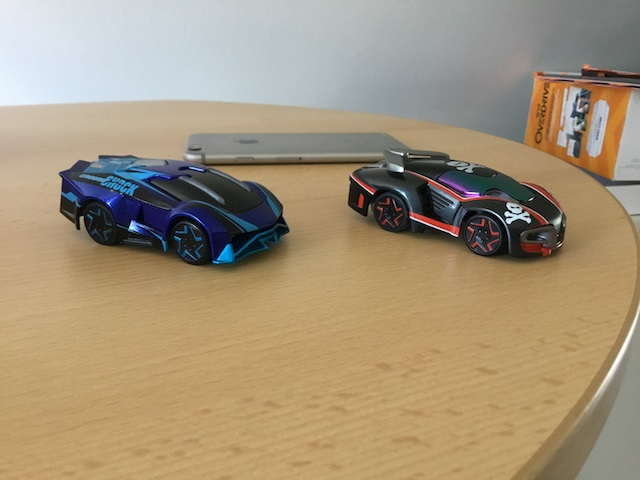car-blue: (55, 153, 292, 271)
car-red: (344, 145, 570, 263)
phone: (182, 126, 418, 167)
